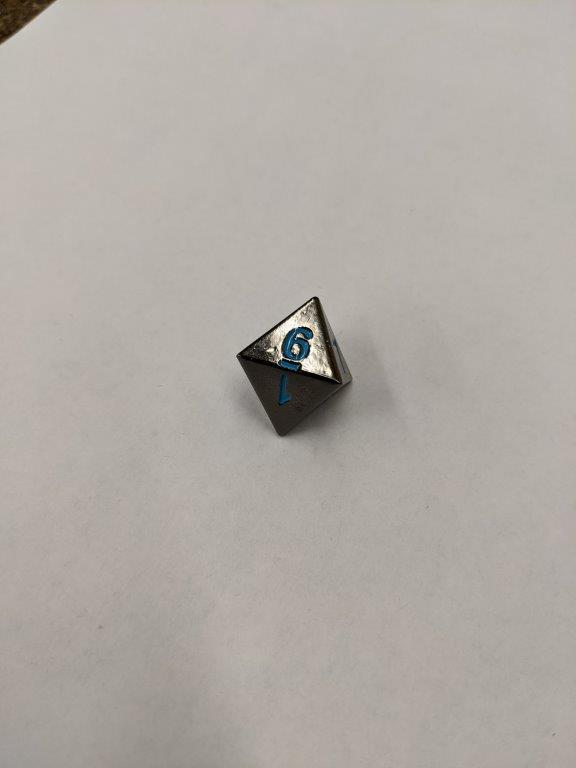d8-6: (234, 293, 353, 439)
